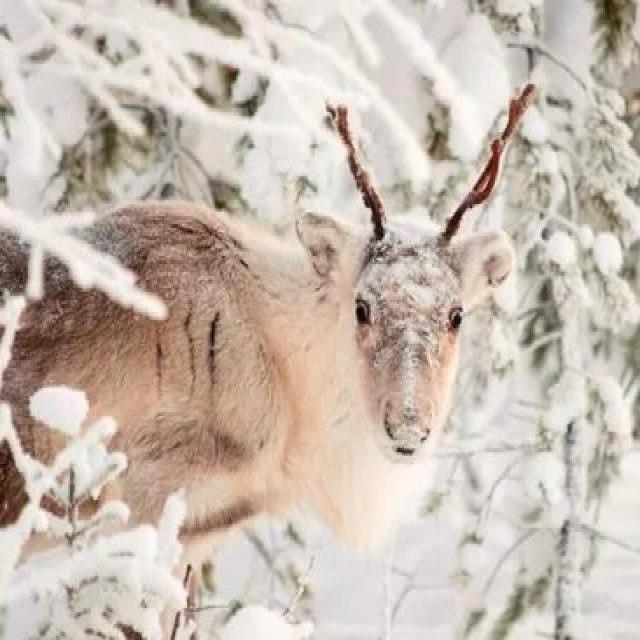deer: (0, 69, 537, 616)
